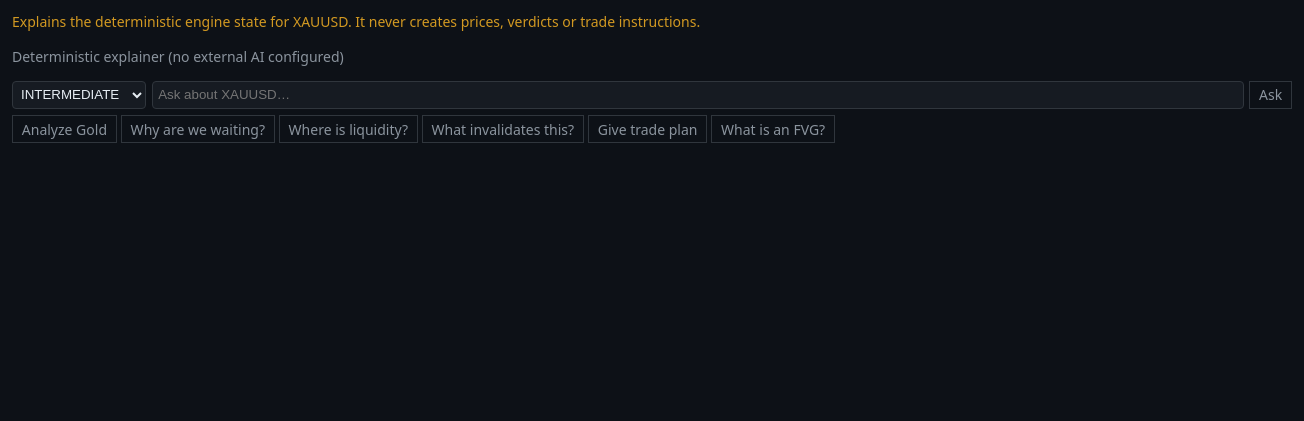
Test case: AI_ANALYSIS tab › asks, shows the answer with facts, guard and unknowns
Expected: the text with test id "ai-provider" shows "Deterministic explainer", [12,47,344,66]
Select "BEGINNER" in the dropdown named "Education level" at (79, 95), box [12,81,146,109]
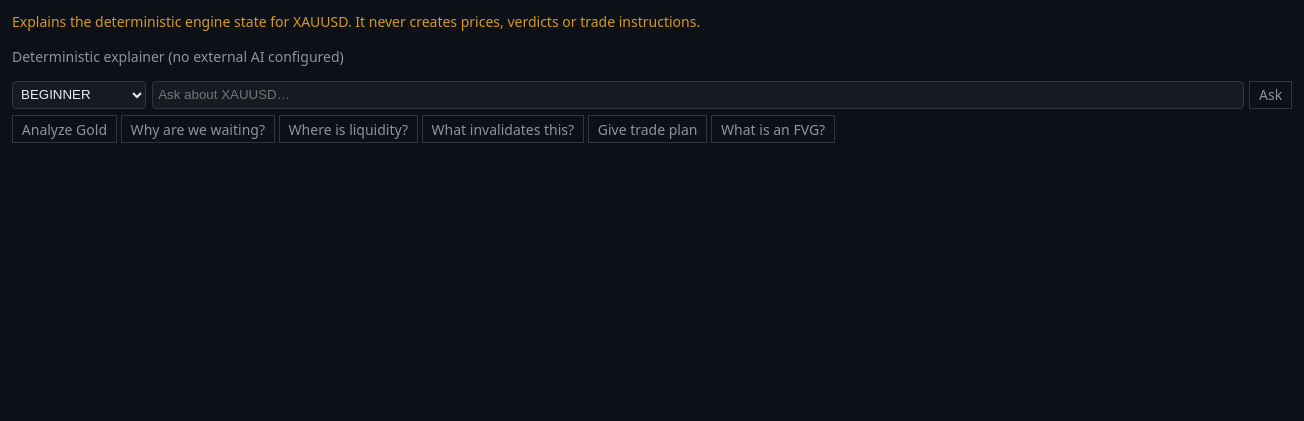
Type "Where is liquidity?" into the field named "Question" at (698, 95), box [152,81,1244,109]
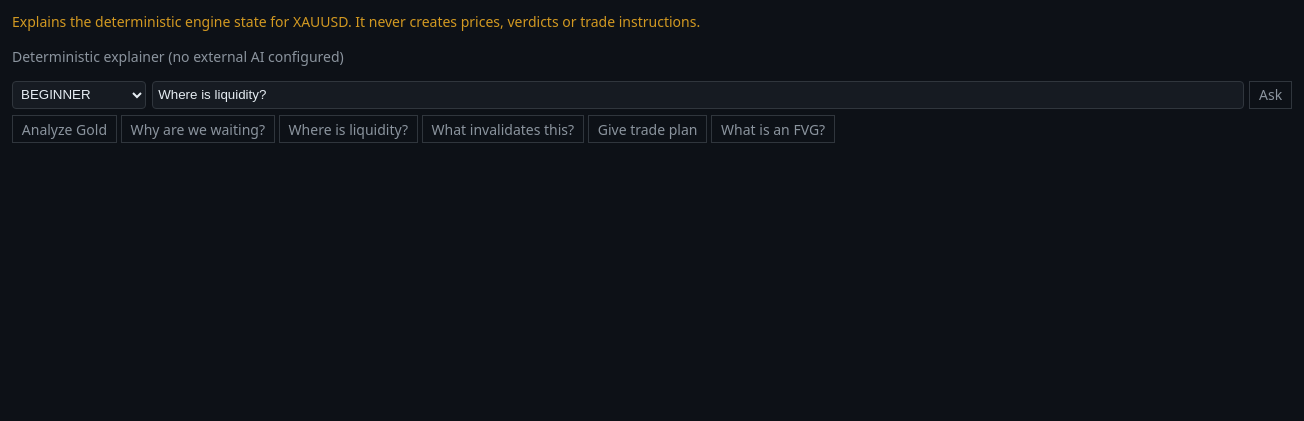
Submit the form "Ask", box [12,81,1292,109]
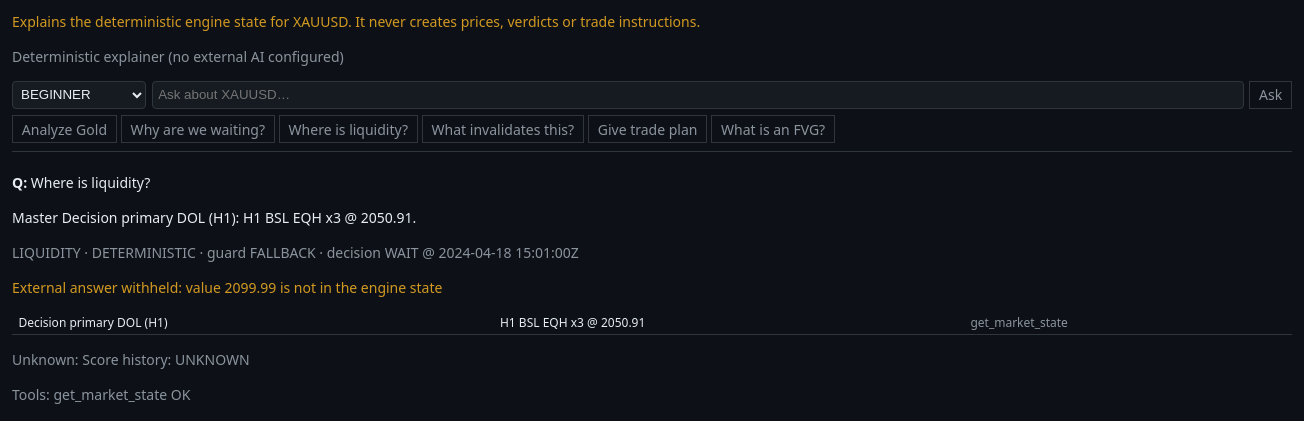
Expected: the element with test id "ai-answer" is shown, [12,207,1292,404]
Expected: the table with test id "ai-facts" shows "H1 BSL EQH x3 @ 2050.91", [500,314,645,331]
Expected: the text with test id "ai-guard" shows "2099.99", [186,278,442,297]
